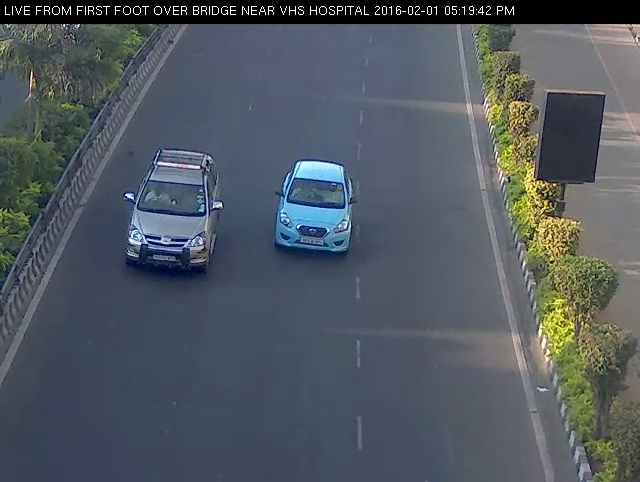Car: (115, 134, 233, 291), (263, 148, 367, 267)
